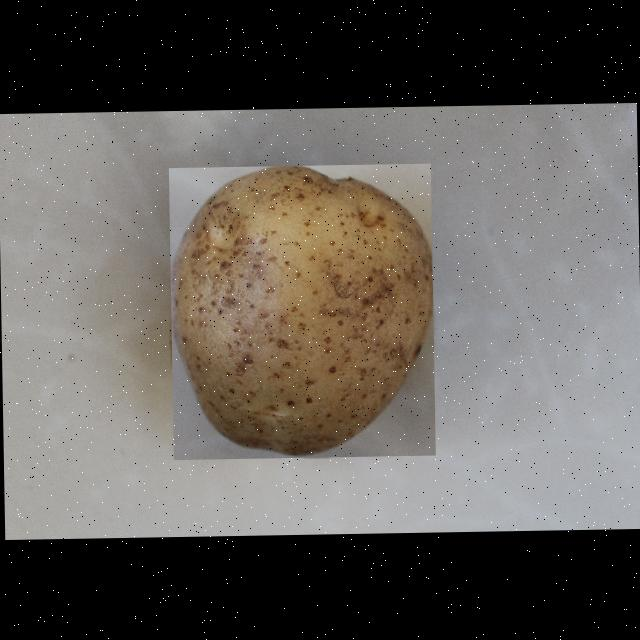Diseased-fungal potato: (168, 162, 434, 459)
